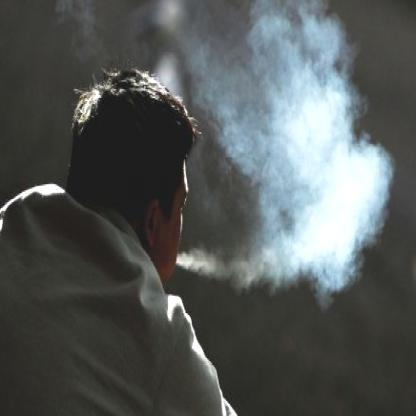person: (0, 72, 212, 414)
smoke: (239, 21, 373, 287)
